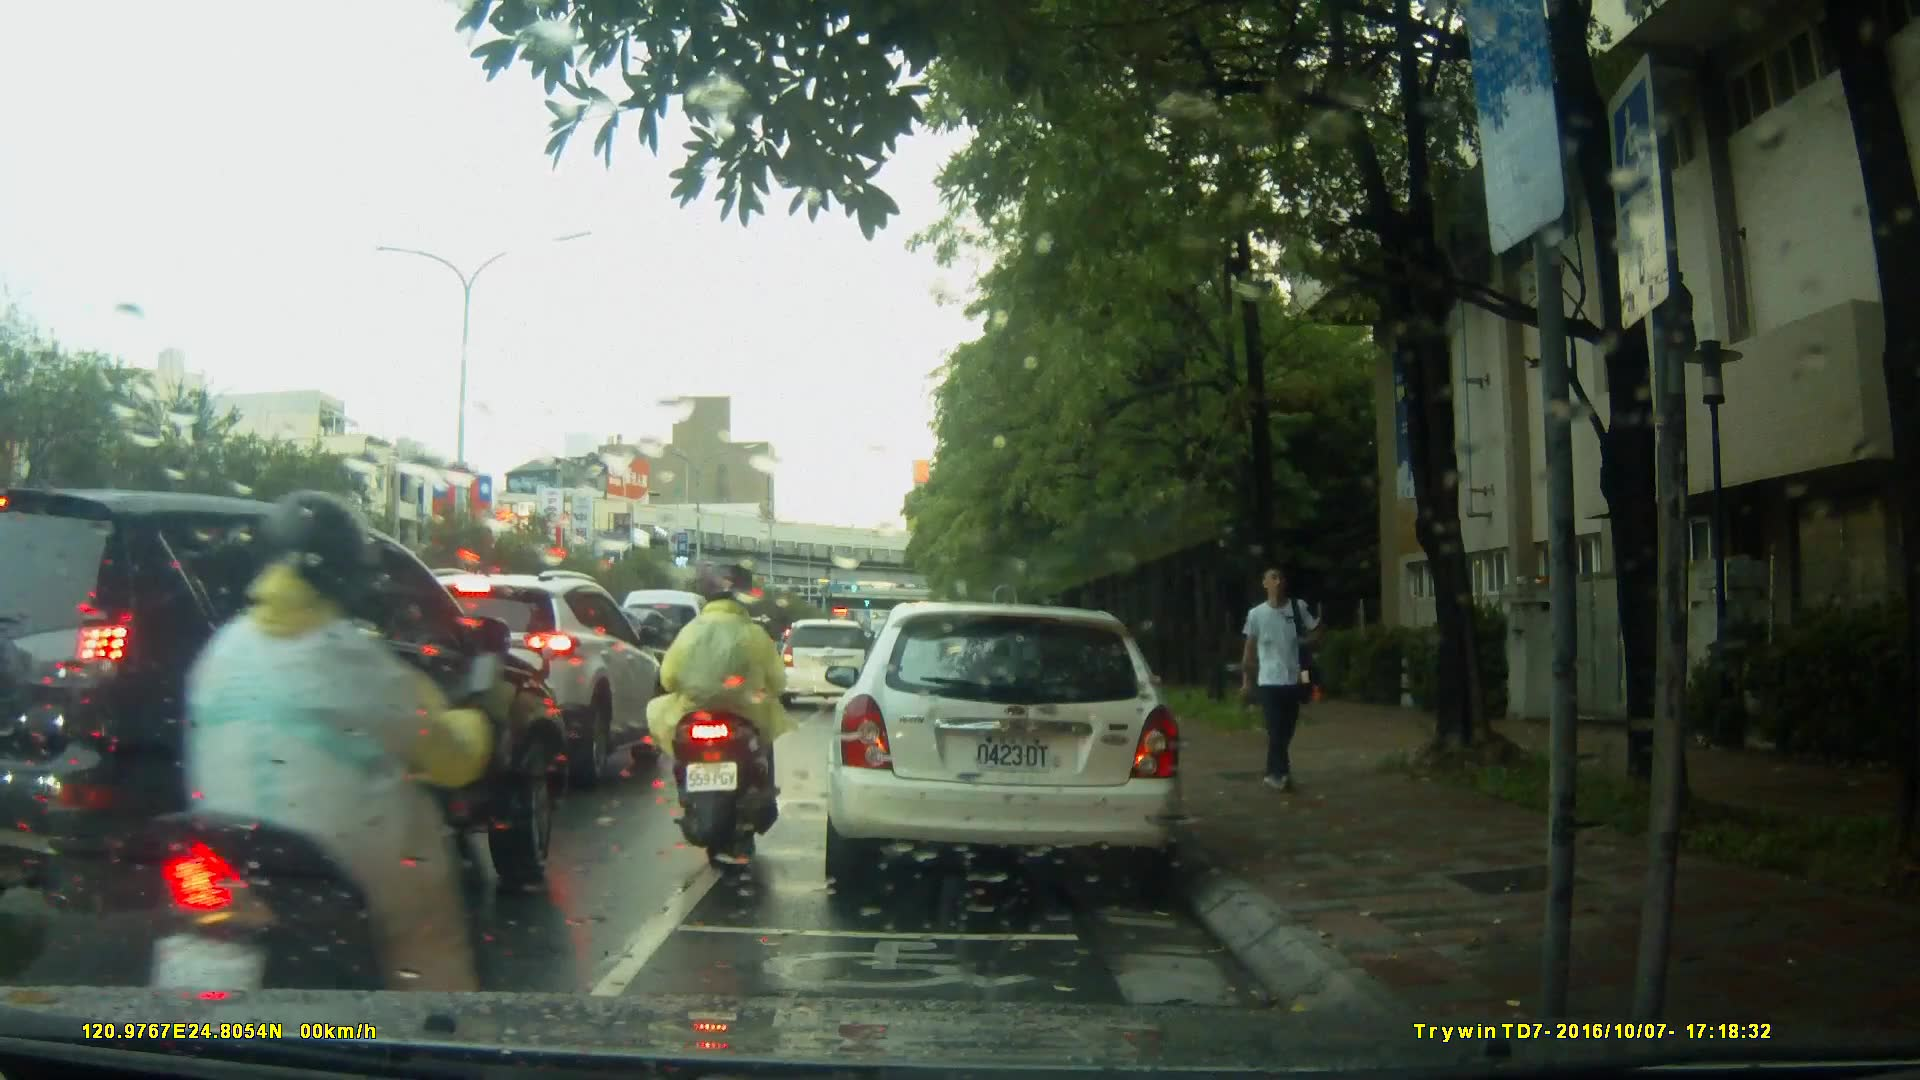pedestrian: (1229, 558, 1328, 805)
rider: (137, 497, 495, 1042), (661, 558, 801, 870)
vehicle: (1, 481, 575, 970), (820, 602, 1188, 898), (364, 567, 670, 783), (614, 588, 733, 717), (771, 617, 880, 710)
